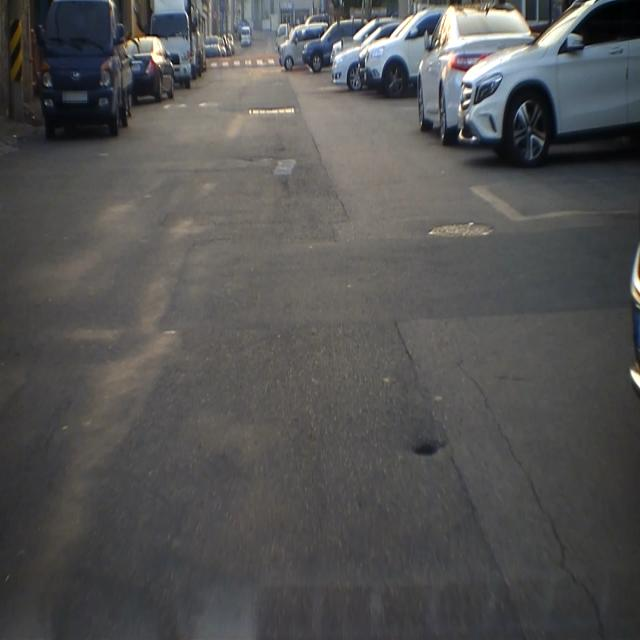Pothole: (403, 426, 458, 470)
